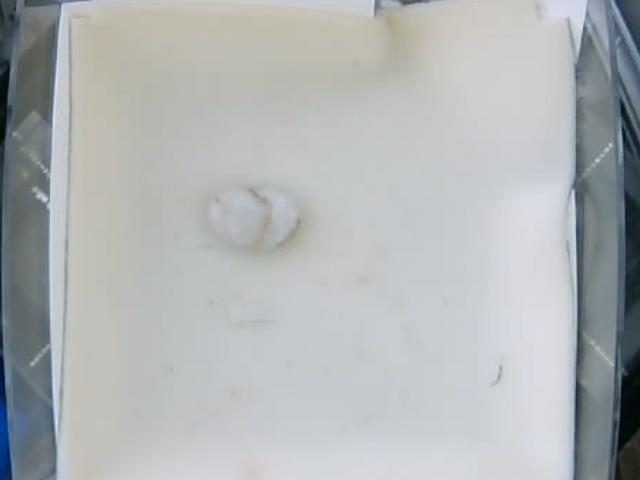Pebble: (207, 186, 303, 249)
